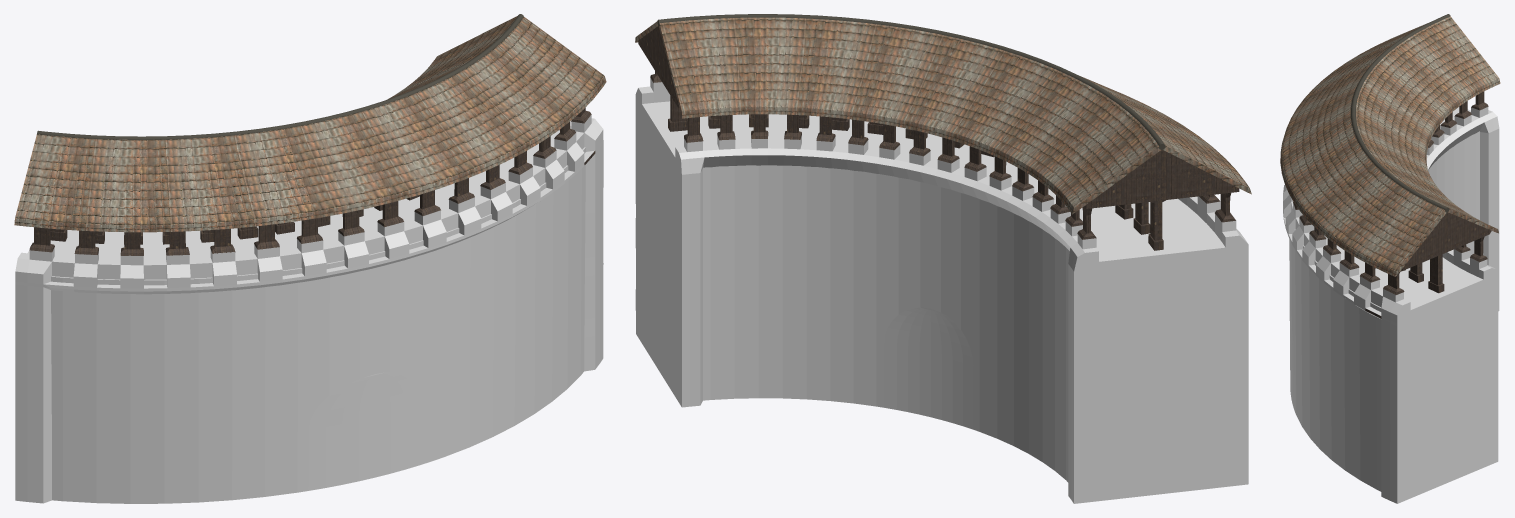
The model's file is CastleWallsRoof-5.fbx.
3 views of the same model, side by side, from view 1: azimuth 30°, elevation 25°; view 2: azimuth 150°, elevation 25°; view 3: azimuth 270°, elevation 25° (orthographic). The views are drawn at different scales.
Parts seen in each view (by area): view 1: HradbyTypE.009; view 2: HradbyTypE.009; view 3: HradbyTypE.009.
Boxes of the visible parts, bbox=[...] form: HradbyTypE.009: bbox=[14, 14, 606, 503]; HradbyTypE.009: bbox=[635, 14, 1251, 503]; HradbyTypE.009: bbox=[1280, 14, 1500, 503].
Size of the model in its own units: 4235 by 2293 by 1661.
